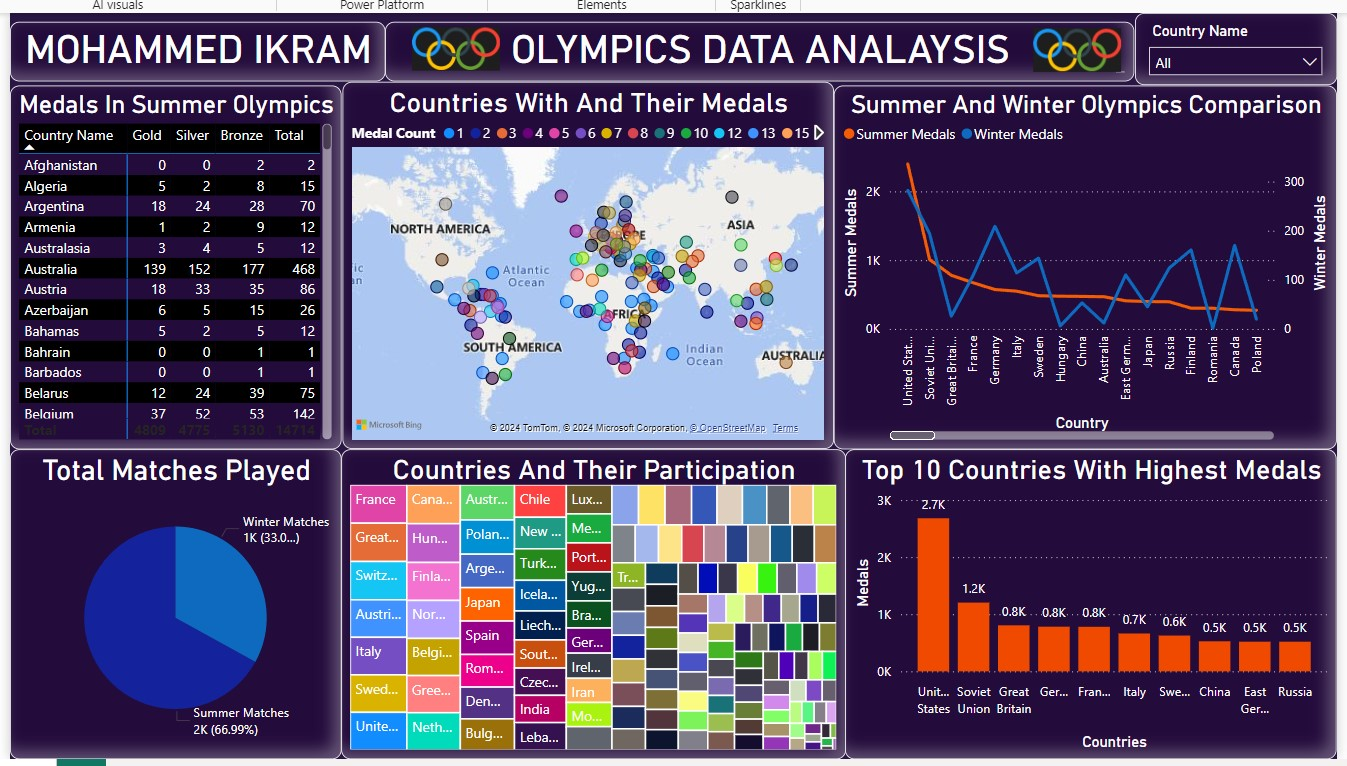

The page's visual inventory and layout, read from the dashboard file:
{"tool":"powerbi","page":{"name":"Page 1","canvas":[1280,720],"ordinal":0},"visuals":[{"type":"textbox","title":"MOHAMMED IKRAM","box":[0,8.2,362.3,57.6],"z":0},{"type":"textbox","title":"OLYMPICS DATA ANALAYSIS","box":[362.3,8.2,723.2,57.6],"z":1000},{"type":"pivotTable","title":"Medals In Summer Olympics","fields":{"Rows":["Sheet1.Country Name"],"Values":["Sum(Sheet1.Gold)","Sum(Sheet1.Silver)","Sum(Sheet1.Bronze)","Sum(Sheet1.Summer Total)"]},"box":[0,70,319.7,351.1],"z":2000},{"type":"slicer","fields":{"Values":["Sheet1.Country Name"]},"box":[1085.4,0,194.9,70],"z":3000},{"type":"columnChart","title":"Top 10 Countries With Highest Medals","fields":{"Category":["Sheet1.Country Name"],"Y":["Sum(Sheet1.Combined total)"]},"box":[805.5,421.3,474.8,299.1],"z":4000},{"type":"pieChart","title":"Total Matches Played","fields":{"Y":["Sum(Sheet1.Winter (No. of matches played))","Sum(Sheet1.Summer (No. of matches played))"]},"box":[0,421.3,319.7,299.1],"z":5000},{"type":"lineChart","title":"Summer And Winter Olympics Comparison","fields":{"Category":["Sheet1.Country Name"],"Y":["Sum(Sheet1.Summer Total)"],"Y2":["Sum(Sheet1.Winter Total)"]},"box":[794.5,70,485.8,351.3],"z":6000},{"type":"treemap","title":"Countries And Their Participation","fields":{"Group":["Sheet1.Country Name"],"Values":["Sum(Sheet1.Total games played)"]},"box":[319.7,421.3,487.1,299.1],"z":7000},{"type":"map","title":"Countries With And Their Medals","fields":{"Category":["Sheet1.Country Name"],"Series":["Sheet1.Combined total"]},"box":[320.9,66.4,474.1,354.7],"z":8000},{"type":"image","box":[974.8,9.7,109.8,51.9],"z":9000},{"type":"image","box":[375.2,8.4,109.8,51.9],"z":10000}]}

Visuals, with their boxes in screenshot pixels (x1, y1, x2, y2):
"MOHAMMED IKRAM" textbox: 7/12/383/72
"OLYMPICS DATA ANALAYSIS" textbox: 383/12/1134/72
"Medals In Summer Olympics" pivotTable: 7/76/339/441
slicer - Sheet1.Country Name: 1133/4/1336/76
"Top 10 Countries With Highest Medals" columnChart: 843/441/1336/751
"Total Matches Played" pieChart: 7/441/339/751
"Summer And Winter Olympics Comparison" lineChart: 832/76/1336/441
"Countries And Their Participation" treemap: 339/441/844/751
"Countries With And Their Medals" map: 340/72/832/441
image: 1019/14/1133/67
image: 396/12/510/66
